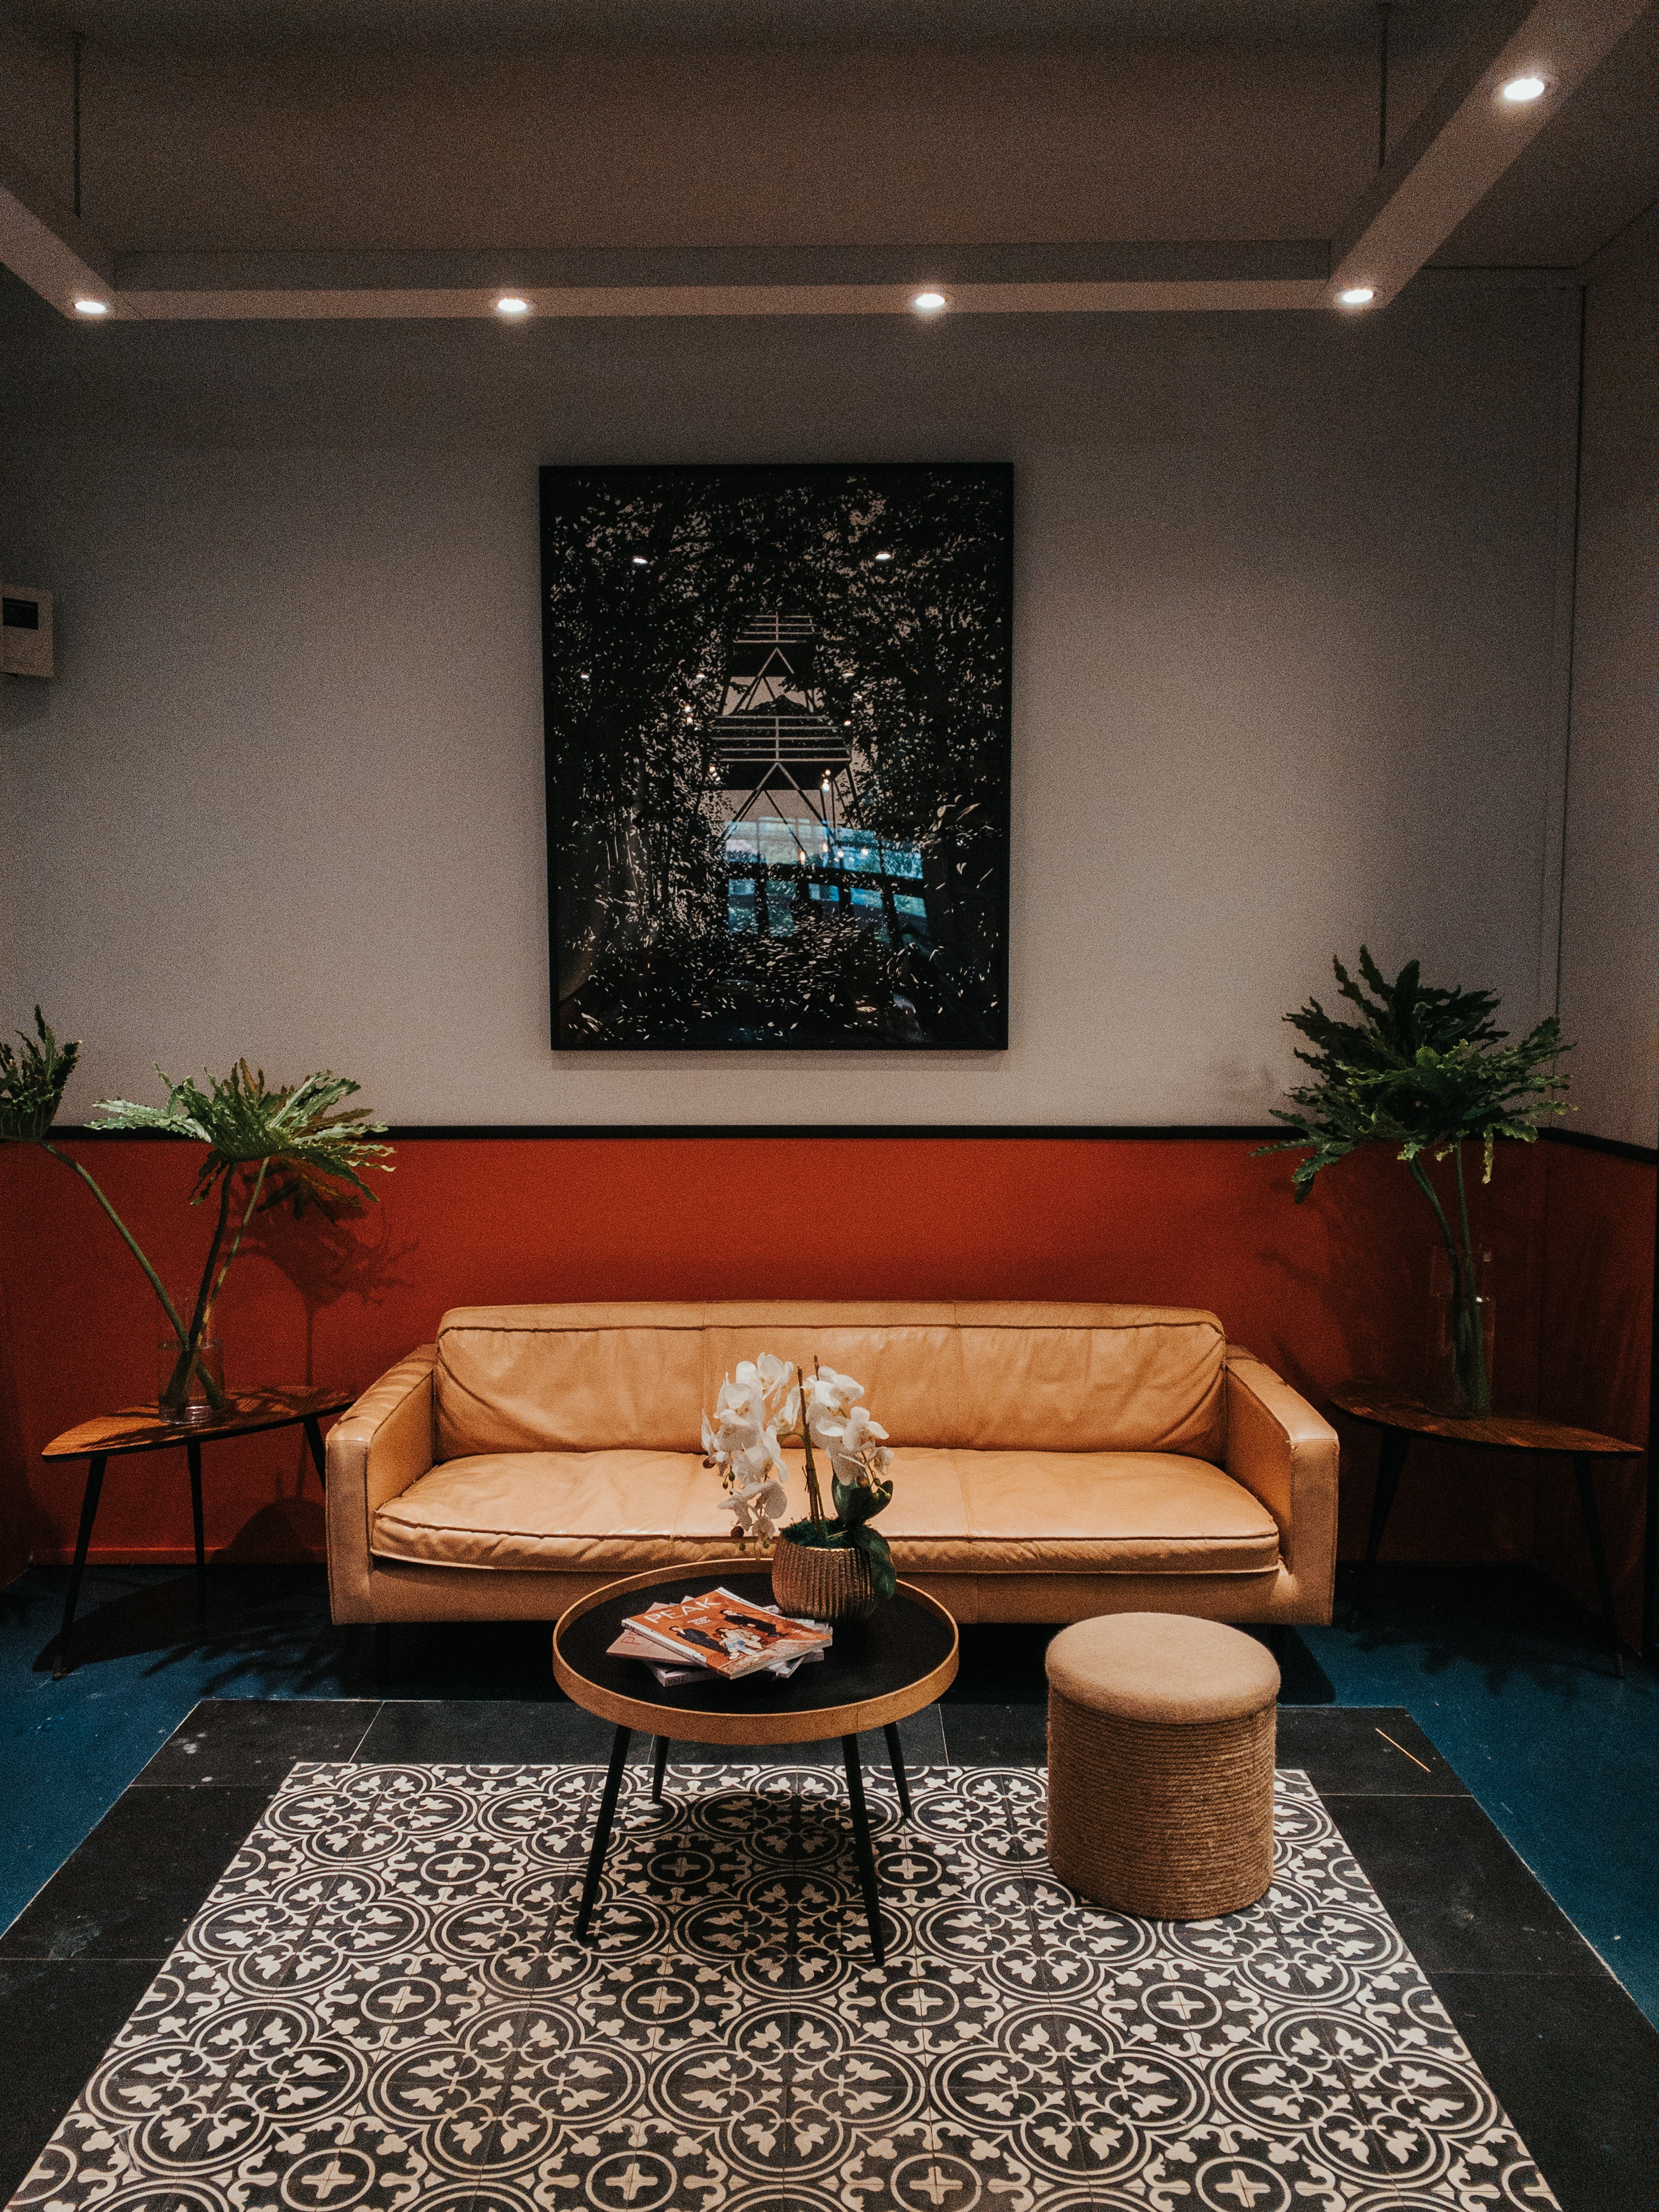Chair: (1030, 1590, 1330, 1951)
Painting: (509, 443, 1051, 1089)
Plant: (1260, 927, 1589, 1415)
Sofa: (286, 1274, 1356, 1659)
Table: (474, 1529, 1012, 1992)
